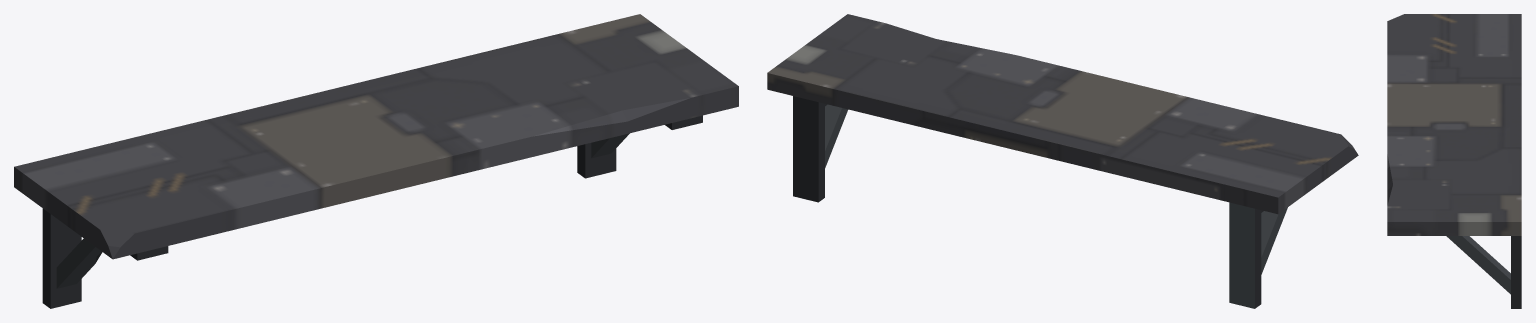
File: SM_Prop_Shelf_Wall_01.fbx
The picture shows the model from 3 angles, left to right: view 1: azimuth 30°, elevation 25°; view 2: azimuth 150°, elevation 25°; view 3: azimuth 270°, elevation 25°; orthographic projection. The views are drawn at different scales.
Visible parts, largest first — view 1: SM_Prop_Shelf_Wall_01; view 2: SM_Prop_Shelf_Wall_01; view 3: SM_Prop_Shelf_Wall_01.
Part boxes in pixels (<box>): SM_Prop_Shelf_Wall_01: <box>14,14,738,308</box>; SM_Prop_Shelf_Wall_01: <box>767,14,1358,308</box>; SM_Prop_Shelf_Wall_01: <box>1387,14,1521,308</box>.
Bounding box in the file's own units: 160 × 35.11 × 43.75.
